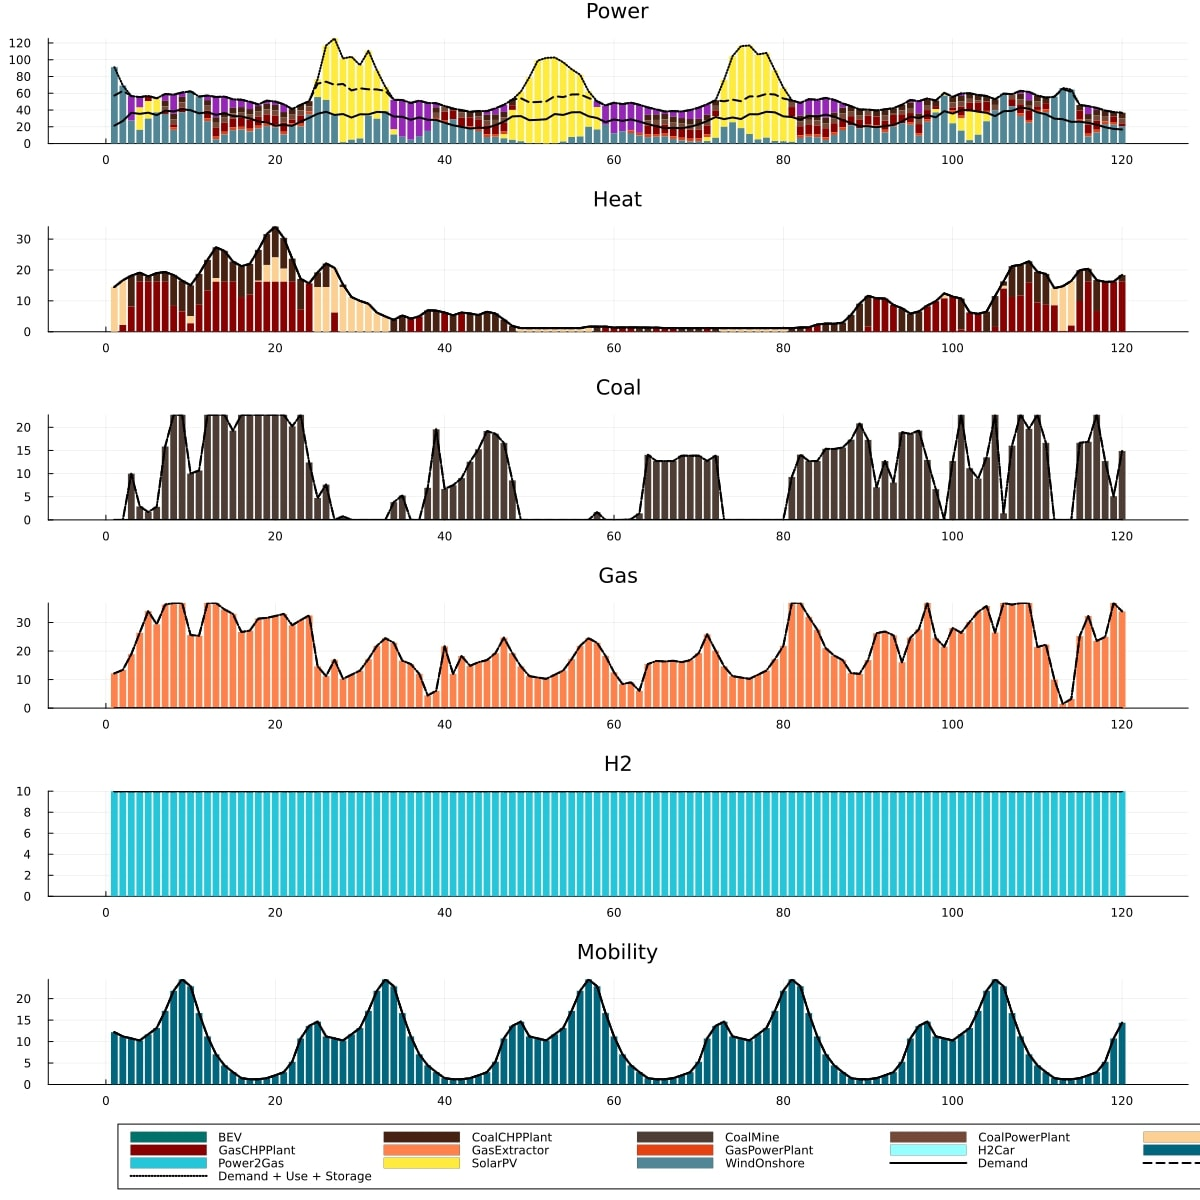

The page's visual inventory and layout, read from the dashboard file:
{"tool":"tableau","page":{"name":"D_Generation","canvas":[1000,1000],"units":"permille","ordinal":3},"visuals":[{"type":"worksheet","title":"Generation","mark":"Automatic","rows":["Fuel","Value"],"cols":["Hour"],"box":[6.7,13.5,722.2,973]},{"type":"legend","title":"Generation","param":"[federated.05oclpd0di546711f7y661pm4vap].[none:Technology:nk]","box":[728.9,13.5,264.4,973]}]}

Visuals, with their boxes on the dashboard's canvas, which has no fixed pixel size, in thousandths of its width and height (x1, y1, x2, y2). These are canvas units, not pixel positions in the 1200x1200 screenshot, which may show the page scaled, cropped or inside an application window:
"Generation" worksheet: region(7, 14, 729, 986)
"Generation" legend: region(729, 14, 993, 986)
